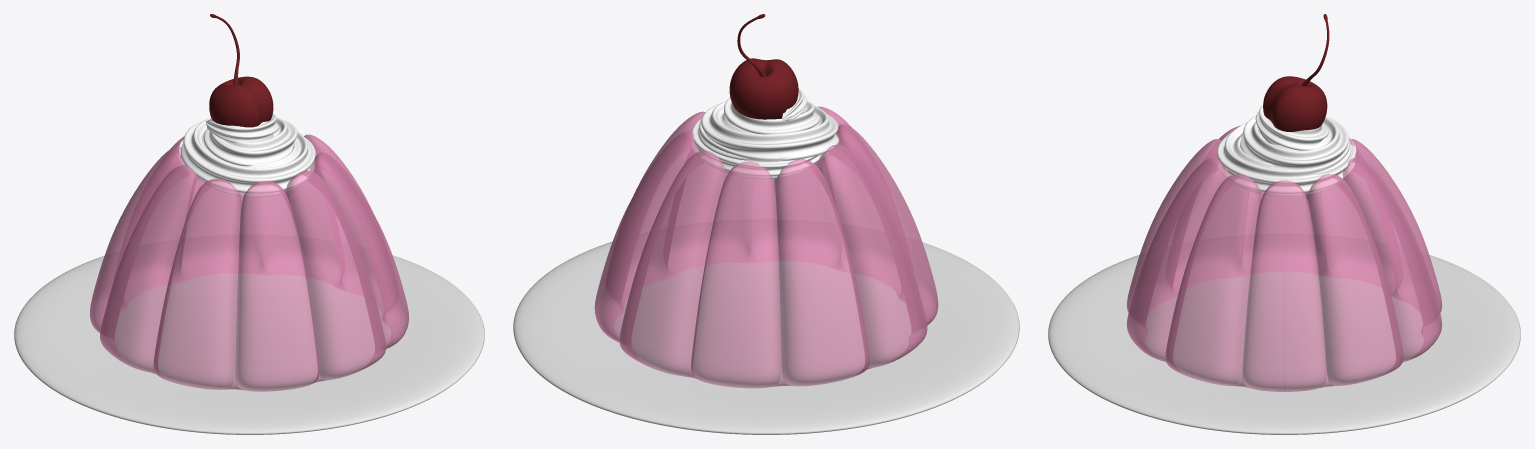
The picture shows the model from 3 angles, left to right: view 1: azimuth 30°, elevation 25°; view 2: azimuth 150°, elevation 25°; view 3: azimuth 270°, elevation 25°; orthographic projection. The views are drawn at different scales.
Visible parts, largest first — view 1: Cylinder_2, Circle_13, NurbsPath.001_9, Cherry02_7; view 2: Cylinder_2, Circle_13, NurbsPath.001_9, Cherry02_7; view 3: Cylinder_2, Circle_13, NurbsPath.001_9, Cherry02_7.
Part boxes in pixels (box(x1,y1,x2,y2)): Cylinder_2: box(90, 134, 408, 391); Circle_13: box(14, 255, 484, 434); NurbsPath.001_9: box(178, 113, 315, 197); Cherry02_7: box(209, 76, 273, 127); Cylinder_2: box(594, 106, 938, 388); Circle_13: box(513, 241, 1019, 434); NurbsPath.001_9: box(691, 88, 839, 178); Cherry02_7: box(729, 58, 798, 119); Cylinder_2: box(1126, 126, 1442, 391); Circle_13: box(1048, 255, 1520, 434); NurbsPath.001_9: box(1217, 105, 1356, 196); Cherry02_7: box(1263, 76, 1327, 131).
Size of the model in its own units: 5.48 by 4.12 by 5.48.
